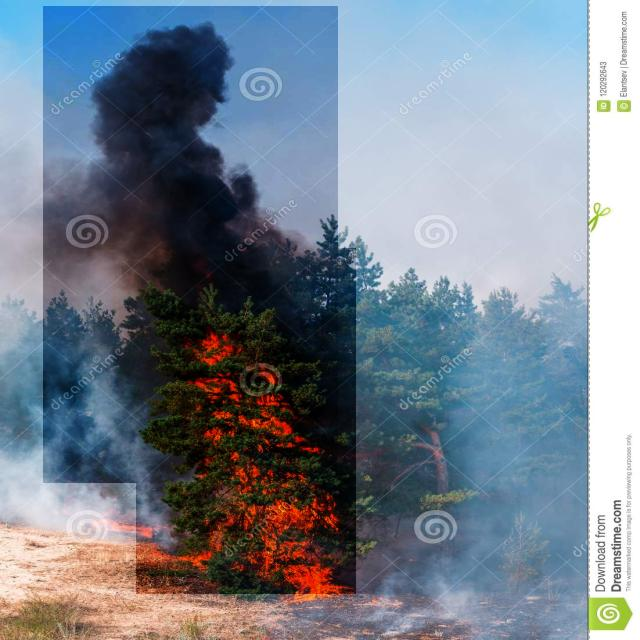Fire: (136, 248, 356, 594)
Smoke: (43, 6, 338, 483)
